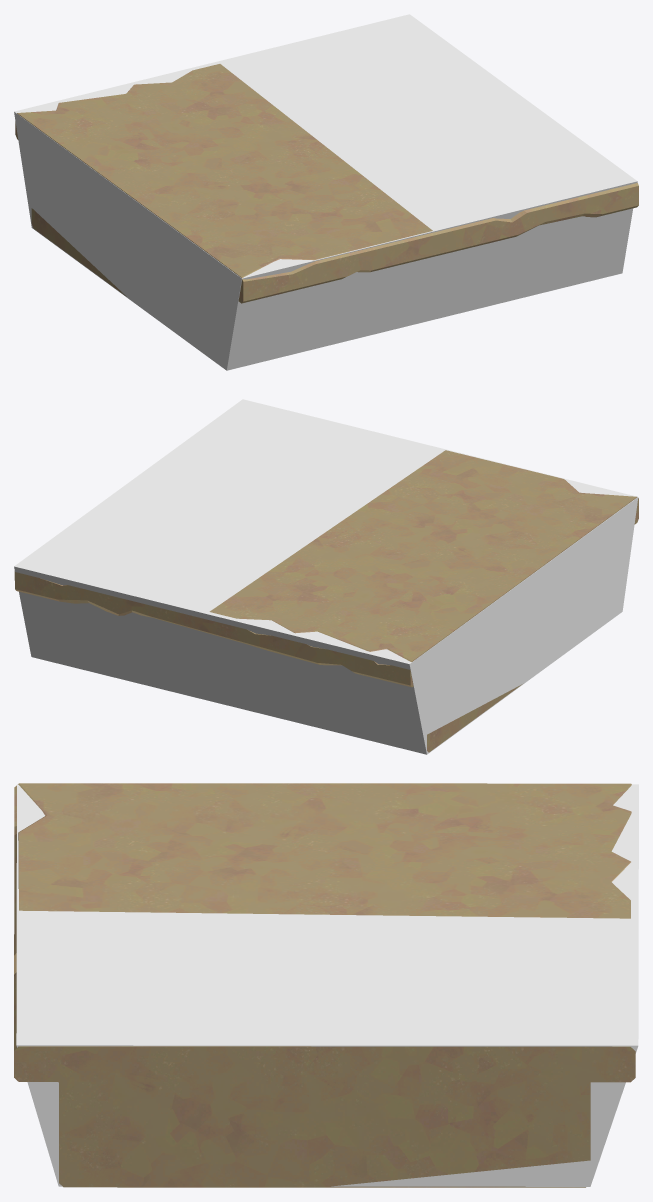
File: BlockTrim_Middle.fbx
3 renders of one model, top to bottom at view 1: azimuth 30°, elevation 25°; view 2: azimuth 150°, elevation 25°; view 3: azimuth 270°, elevation 25°, orthographic. The views are drawn at different scales.
Visible parts, largest first — view 1: BlockTrim_Middle_COL, BlockTrim_Middle; view 2: BlockTrim_Middle_COL, BlockTrim_Middle; view 3: BlockTrim_Middle, BlockTrim_Middle_COL.
Boxes of the visible parts, x1=… form: BlockTrim_Middle_COL: x1=14, y1=14, x2=637, y2=370; BlockTrim_Middle: x1=15, y1=64, x2=638, y2=303; BlockTrim_Middle_COL: x1=14, y1=399, x2=638, y2=754; BlockTrim_Middle: x1=14, y1=450, x2=638, y2=752; BlockTrim_Middle: x1=14, y1=783, x2=635, y2=1187; BlockTrim_Middle_COL: x1=16, y1=784, x2=638, y2=1186.
Size of the model in its own units: 401 by 101 by 402.
